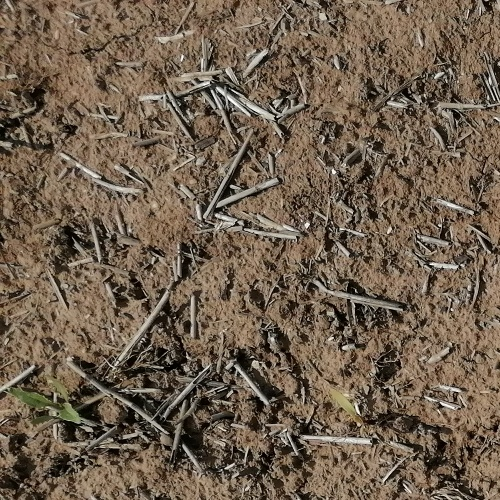beet: (13, 390, 80, 427)
